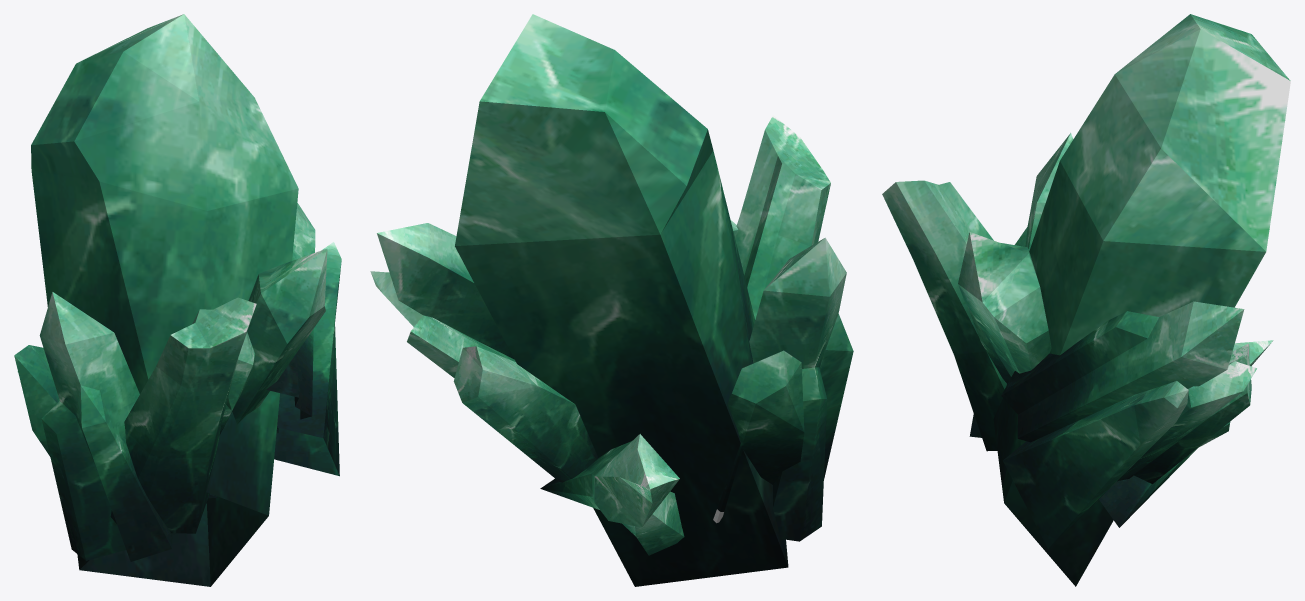
Rendered from environment_stone_shuijing_001_h.FBX.
3 renders of one model, left to right at view 1: azimuth 30°, elevation 25°; view 2: azimuth 150°, elevation 25°; view 3: azimuth 270°, elevation 25°, orthographic. The views are drawn at different scales.
Visible parts, largest first — view 1: environment_stone_shuijing_001_h; view 2: environment_stone_shuijing_001_h; view 3: environment_stone_shuijing_001_h.
Part boxes in pixels (box(x1,y1,x2,y2)): environment_stone_shuijing_001_h: box(14, 14, 341, 586); environment_stone_shuijing_001_h: box(370, 14, 853, 586); environment_stone_shuijing_001_h: box(882, 14, 1290, 586).
Bounding box in the file's own units: 200 × 290 × 187.
1 material, 1 textured.
